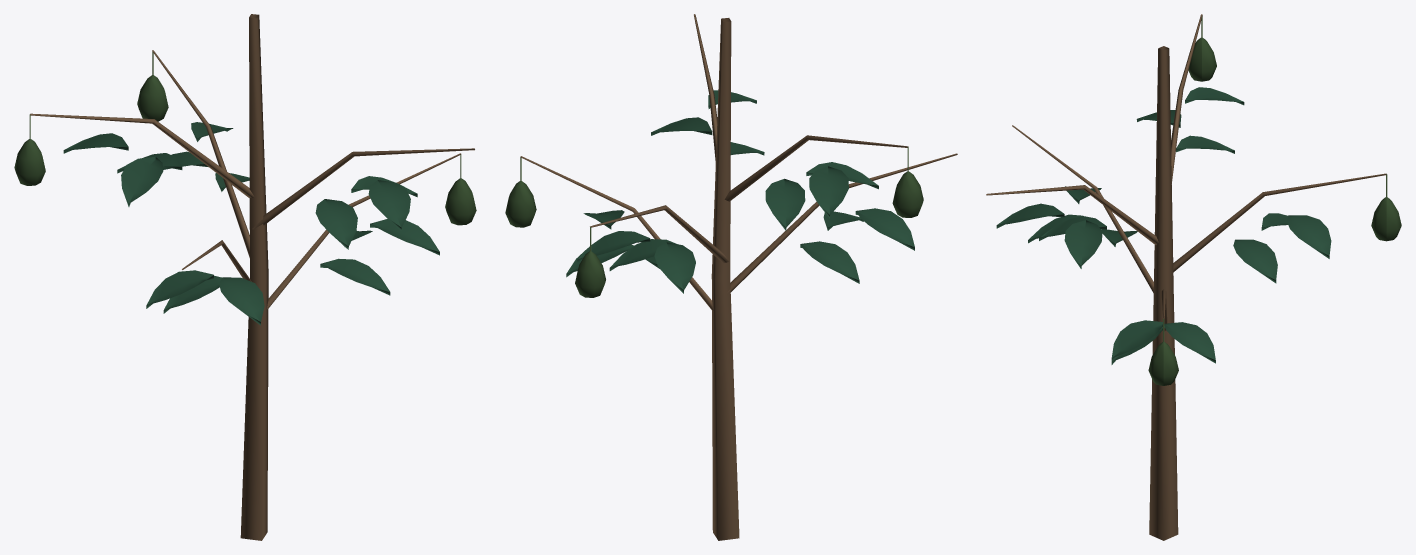
File: aguacate.glb
3 renders of one model, left to right at view 1: azimuth 30°, elevation 25°; view 2: azimuth 150°, elevation 25°; view 3: azimuth 270°, elevation 25°, orthographic. The views are drawn at different scales.
Visible parts, largest first — view 1: aguacate; view 2: aguacate; view 3: aguacate.
Part boxes in pixels (x1,y1,x2,y2): aguacate: (14, 14, 476, 540); aguacate: (505, 14, 957, 540); aguacate: (986, 14, 1401, 540).
Size of the model in its own units: 2.12 by 2.4 by 1.86.
